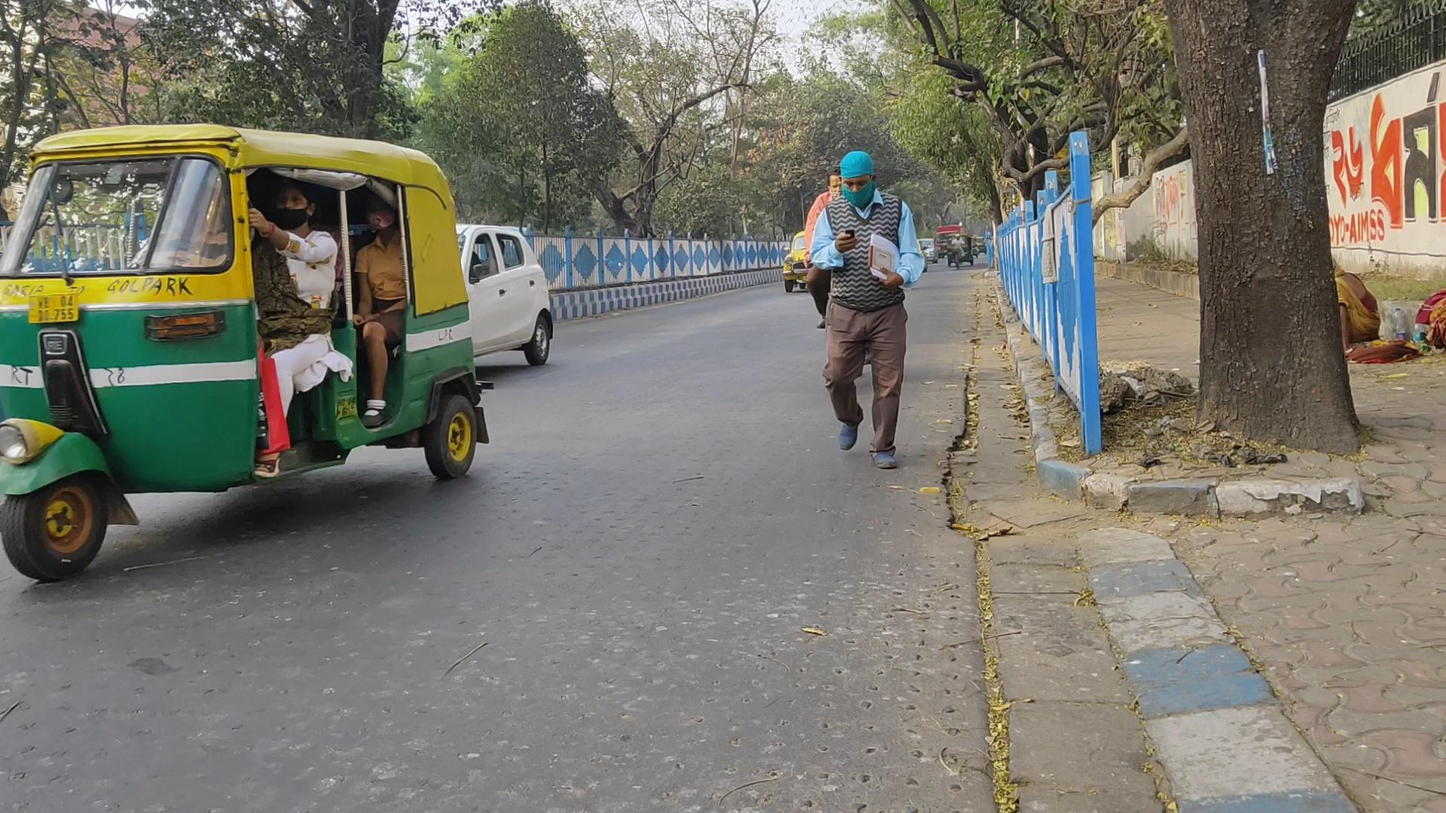Auto: (2, 121, 495, 583), (946, 233, 975, 266)
bike: (952, 233, 964, 270)
car: (456, 219, 555, 376), (780, 230, 830, 294), (918, 236, 939, 266)
van: (935, 224, 966, 260)
